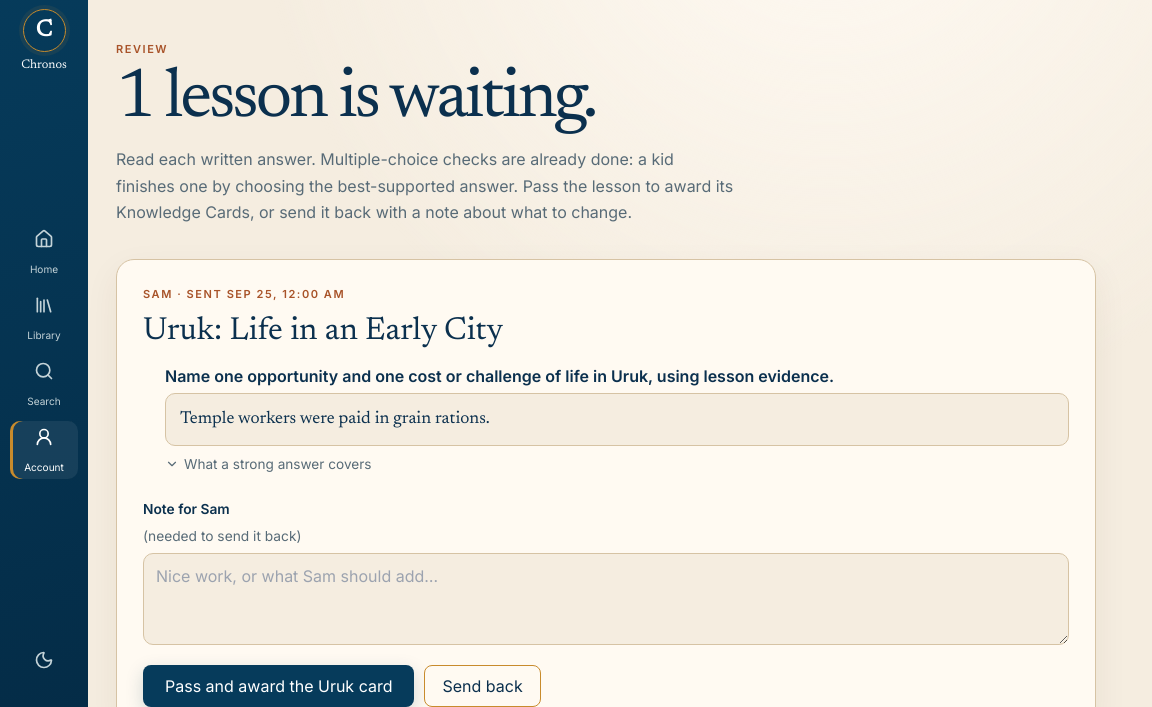
Test: Review page › passes a lesson and awards the lesson’s card from the content bundle
Step 1. Click the button "Pass and award the Uruk card" → (279, 686), box [143, 665, 414, 706]
(page scrolled)
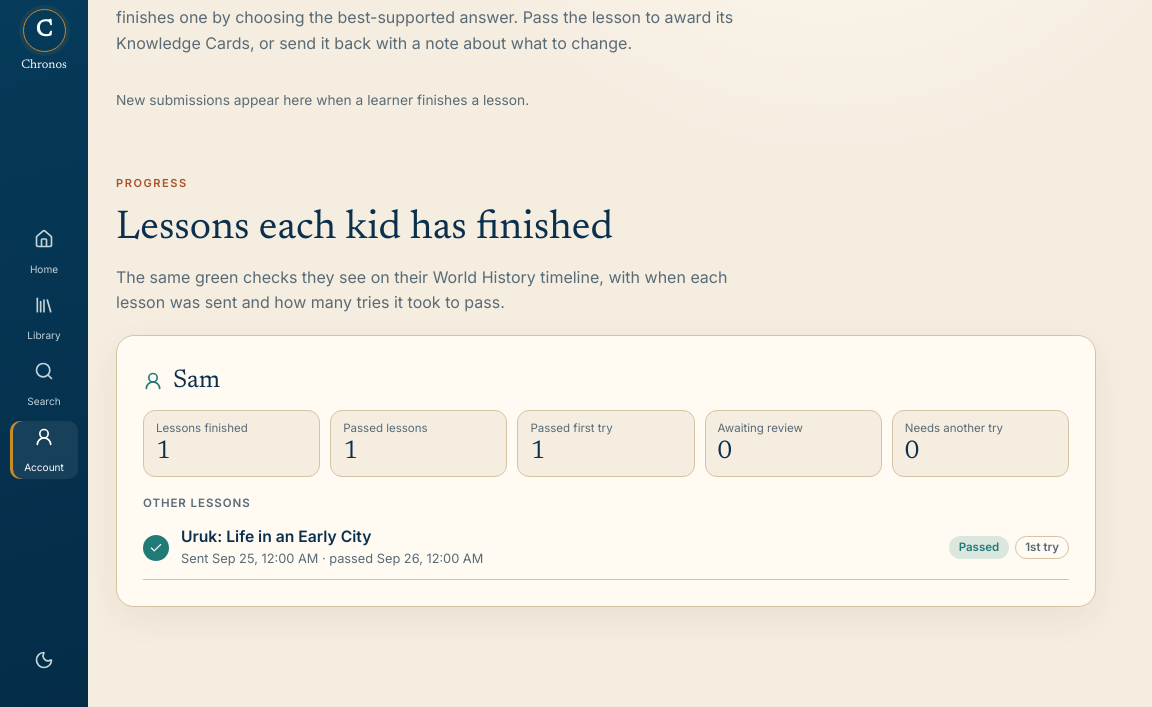
expect the text "Passed" is shown: met, box [949, 536, 1009, 559]
